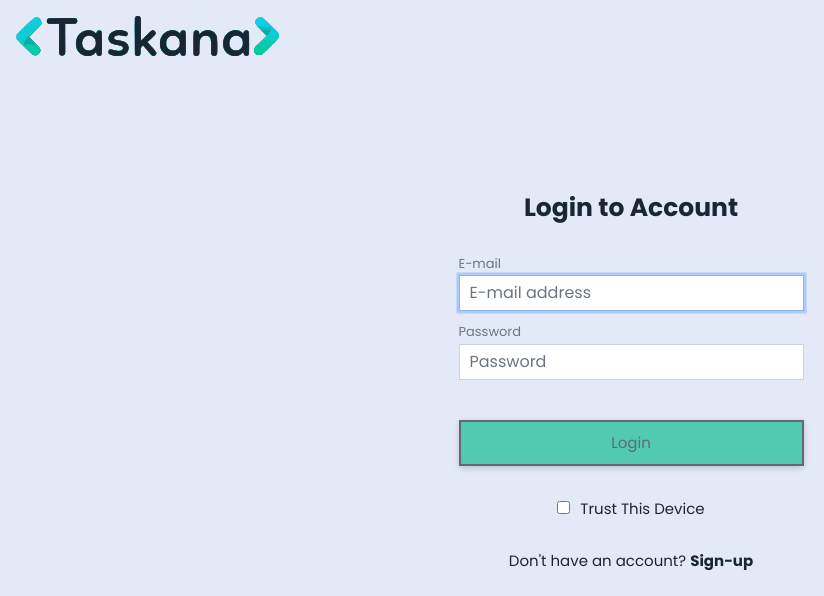
Test: submit btn › should enable btn when fields are valid
This screenshot has width=824, height=596.
Check: the button is disabled, box [458, 420, 804, 466]
In the field with placeholder "E-mail address": {"x": 631, "y": 293} [458, 275, 804, 311], type "marcellustm@yahoo.com"
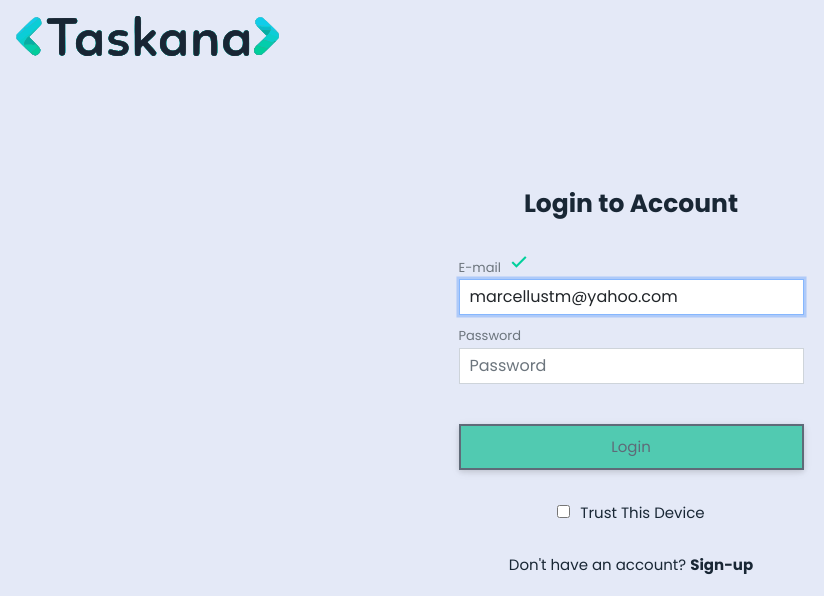
In the password field with placeholder "Password": {"x": 631, "y": 366} [458, 348, 804, 384], type "Password1!"
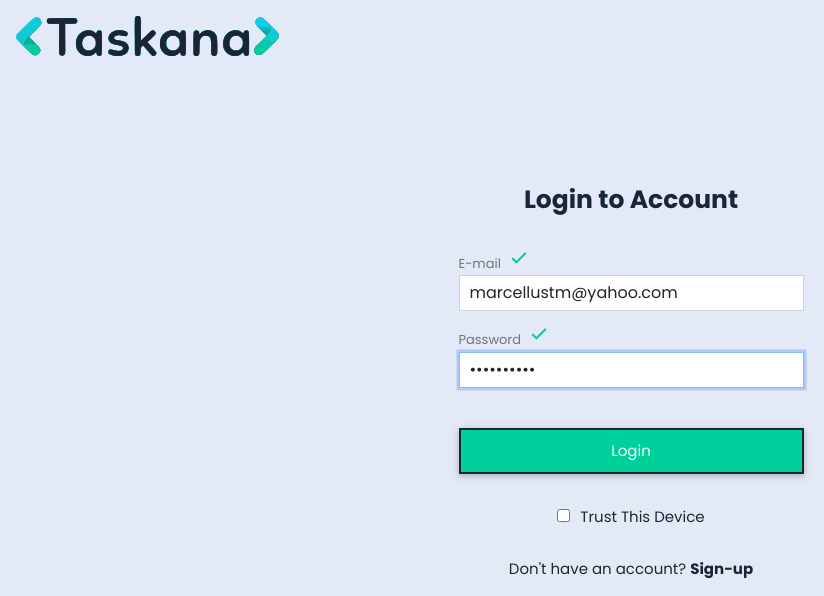
Check: the button is enabled, box [458, 428, 804, 474]
